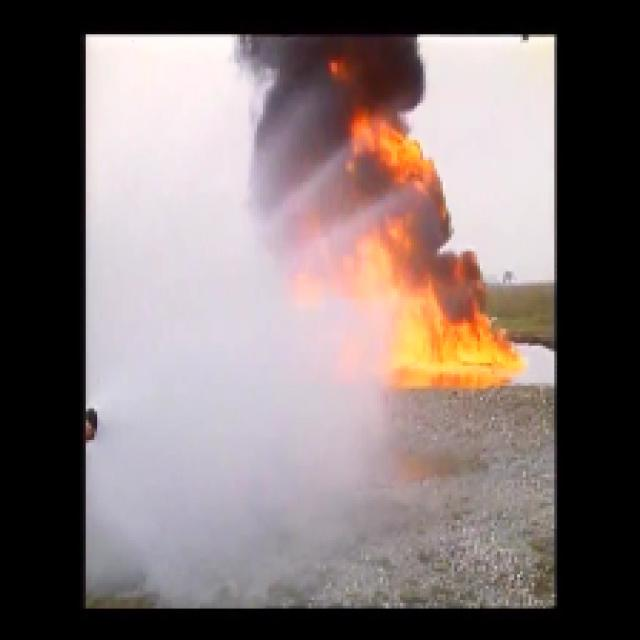fire: (301, 248, 521, 392)
smoke: (236, 38, 427, 109)
